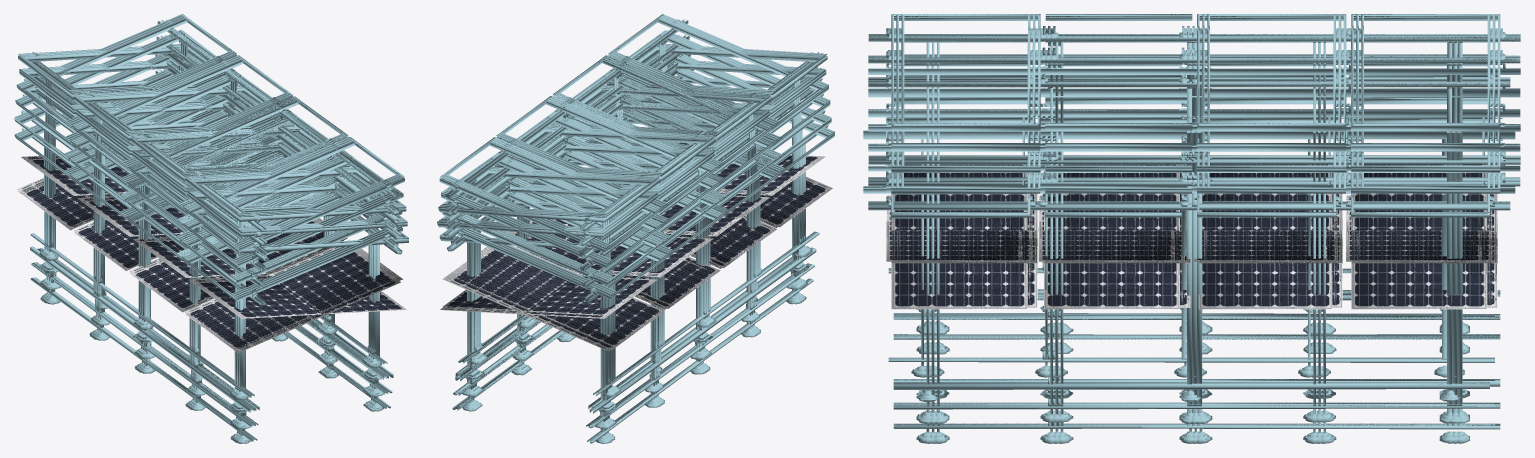
File: gc_gfb.glb
3 renders of one model, left to right at view 1: azimuth 30°, elevation 25°; view 2: azimuth 150°, elevation 25°; view 3: azimuth 270°, elevation 25°, orthographic. The views are drawn at different scales.
Visible parts, largest first — view 1: 支架.003, 支架.017, 支架.001, 支架.048, 板.032, 板.012, 支架.012, 板.056, 支架.011, 支架.002, 支架.043, 支架.037 (+13 smaller); view 2: 支架.059, 支架.055, 支架.043, 板.056, 支架.036, 支架.028, 支架.050, 板.032, 板.012, 支架.037, 支架.003, 支架.012 (+14 smaller); view 3: 板.012, 支架.012, 支架.050, 支架.048, 板.056, 支架.059, 支架.030, 支架.003, 支架.041, 支架.027, 支架.026, 板.032 (+16 smaller).
Boxes of the visible parts, left/top/right/bottom form: 支架.003: left=21, top=17, right=404, bottom=443; 支架.017: left=24, top=47, right=406, bottom=443; 支架.001: left=19, top=33, right=403, bottom=429; 支架.048: left=18, top=71, right=402, bottom=399; 板.032: left=17, top=180, right=397, bottom=349; 板.012: left=27, top=157, right=406, bottom=318; 支架.012: left=25, top=80, right=408, bottom=411; 板.056: left=21, top=183, right=400, bottom=352; 支架.011: left=23, top=62, right=407, bottom=428; 支架.002: left=18, top=53, right=402, bottom=412; 支架.043: left=14, top=52, right=393, bottom=409; 支架.037: left=18, top=15, right=402, bottom=440; 支架.059: left=438, top=46, right=823, bottom=443; 支架.055: left=439, top=17, right=824, bottom=442; 支架.043: left=442, top=51, right=827, bottom=413; 板.056: left=452, top=142, right=832, bottom=347; 支架.036: left=441, top=32, right=826, bottom=429; 支架.028: left=445, top=69, right=830, bottom=396; 支架.050: left=437, top=62, right=822, bottom=428; 板.032: left=448, top=142, right=814, bottom=350; 板.012: left=442, top=154, right=822, bottom=315; 支架.037: left=442, top=15, right=826, bottom=436; 支架.003: left=445, top=14, right=828, bottom=437; 支架.012: left=439, top=75, right=819, bottom=408; 板.012: left=891, top=164, right=1487, bottom=309; 支架.012: left=868, top=63, right=1510, bottom=402; 支架.050: left=878, top=41, right=1520, bottom=424; 支架.048: left=863, top=117, right=1504, bottom=377; 板.056: left=886, top=195, right=1481, bottom=261; 支架.059: left=879, top=14, right=1520, bottom=441; 支架.030: left=873, top=41, right=1515, bottom=424; 支架.003: left=868, top=54, right=1510, bottom=443; 支架.041: left=873, top=14, right=1515, bottom=443; 支架.027: left=873, top=97, right=1515, bottom=398; 支架.026: left=873, top=75, right=1515, bottom=422; 板.032: left=897, top=230, right=1492, bottom=261.
Size of the model in its own units: 153 by 199 by 365.
2 materials, 1 textured.
